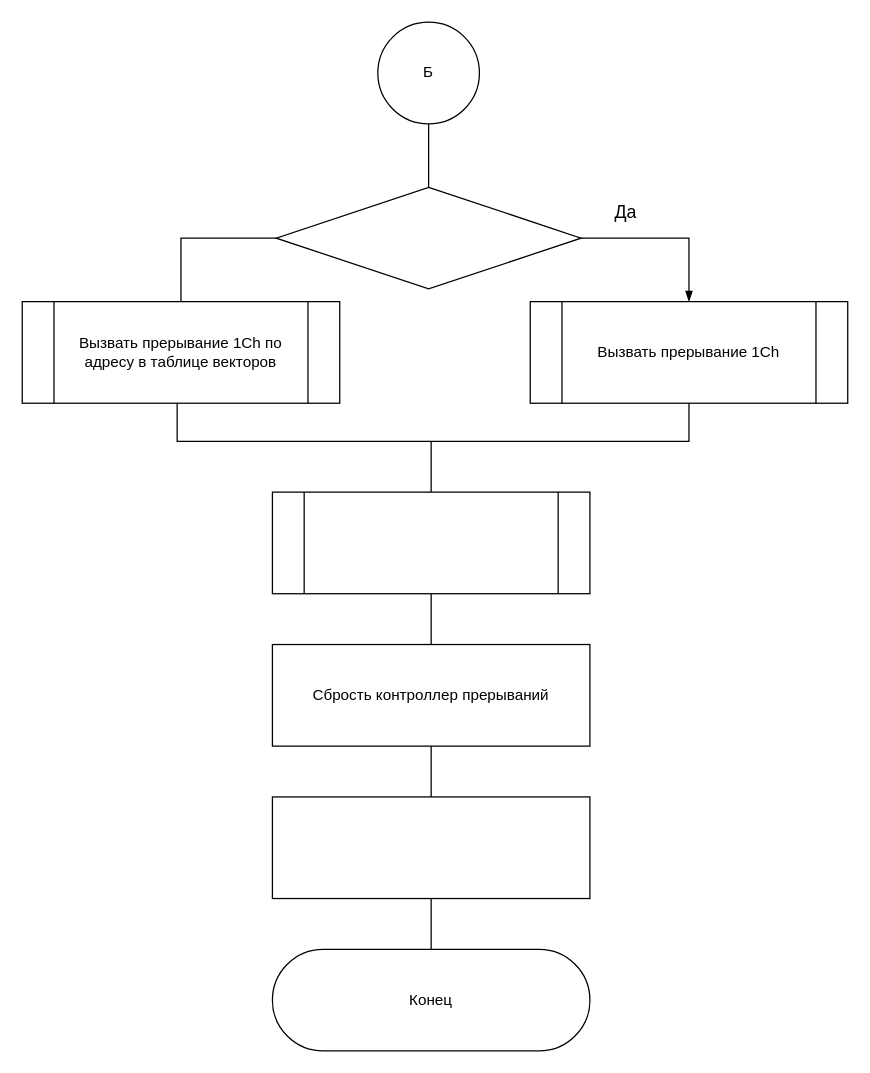
Some shapes in this 870 by 1073 pixel diagram are drawn without their labels. The box of each missing label's shape, as (x1, y1, x2, y2) in pixels:
Восстановить регистры AX, DX, DS, ES из стека: (271, 796, 590, 899)
Вызвать содпрограмму sub_1: (271, 491, 590, 594)
Установлен 2 бит (PF) по адресу 0040:0314h?: (275, 186, 581, 289)
